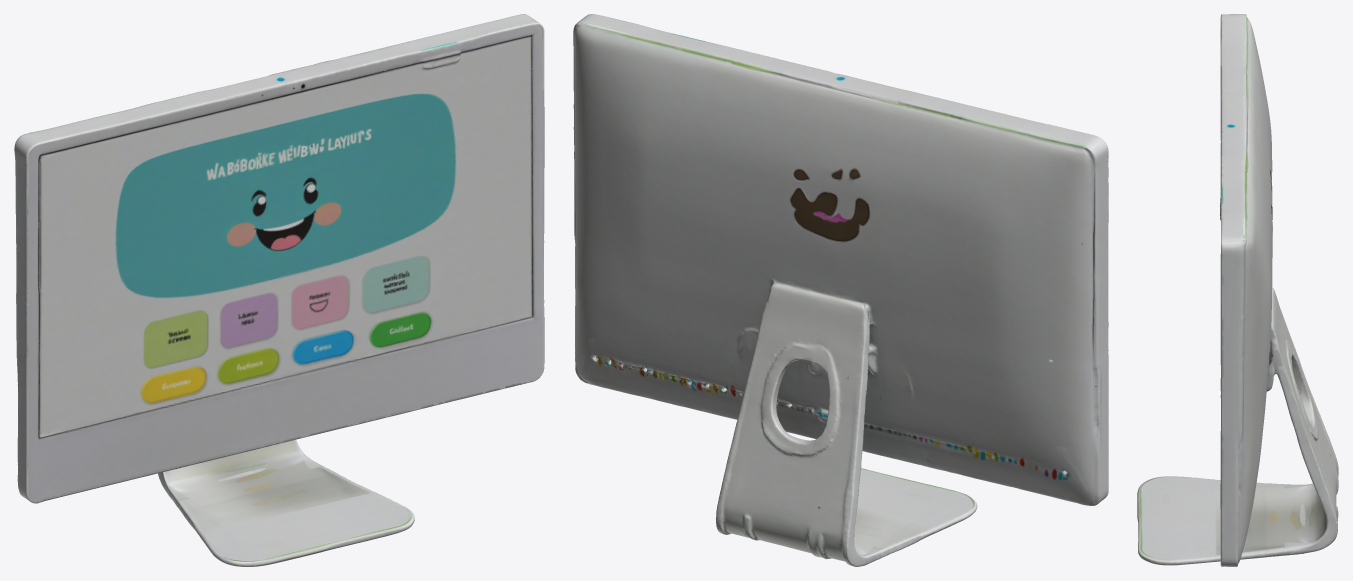
The model's file is website.glb.
The picture shows the model from 3 angles, left to right: view 1: azimuth 30°, elevation 25°; view 2: azimuth 150°, elevation 25°; view 3: azimuth 270°, elevation 25°; orthographic projection. The views are drawn at different scales.
Size of the model in its own units: 65620 by 52771 by 24098.
Materials: 1 (1 with a texture image).
